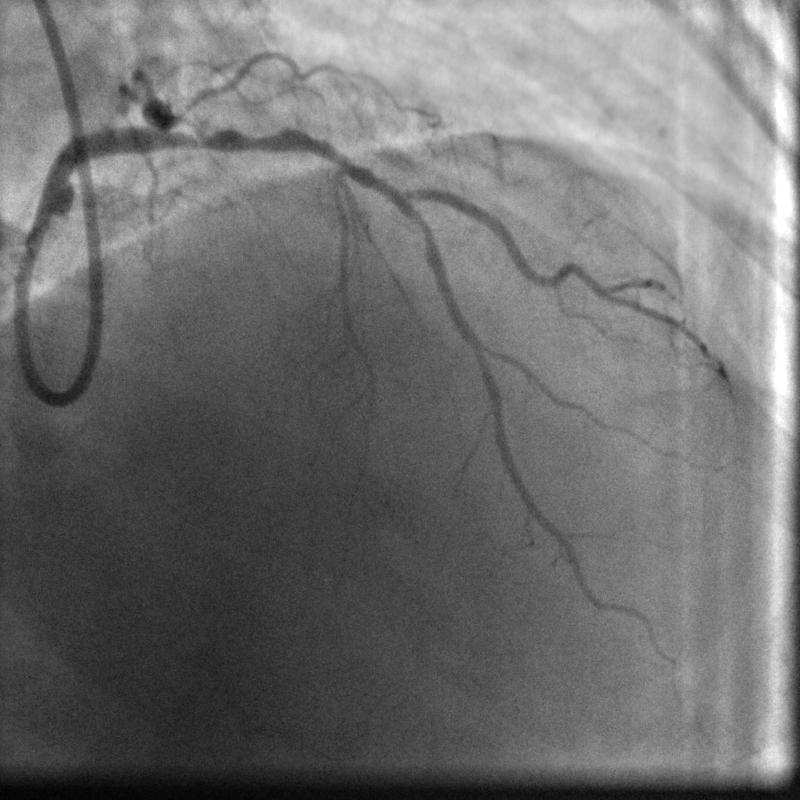Stenosis: (172, 128, 289, 152)
